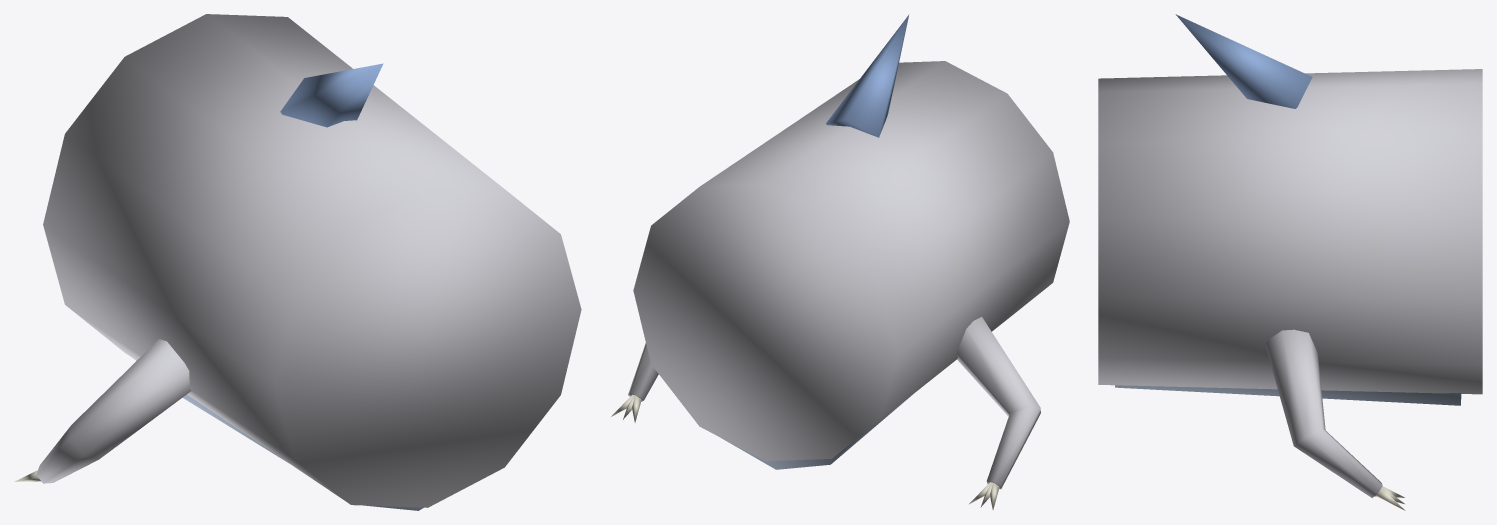
Rendered from wyvern_body.glb.
The picture shows the model from 3 angles, left to right: view 1: azimuth 30°, elevation 25°; view 2: azimuth 150°, elevation 25°; view 3: azimuth 270°, elevation 25°; orthographic projection. The views are drawn at different scales.
Parts seen in each view (by area): view 1: wyvern_body; view 2: wyvern_body; view 3: wyvern_body.
Boxes of the visible parts, box(x1,y1,x2,y2) form: wyvern_body: box(14, 14, 581, 510); wyvern_body: box(611, 14, 1069, 509); wyvern_body: box(1098, 14, 1482, 510).
Bounding box in the file's own units: 1.11 × 1.03 × 0.9.
